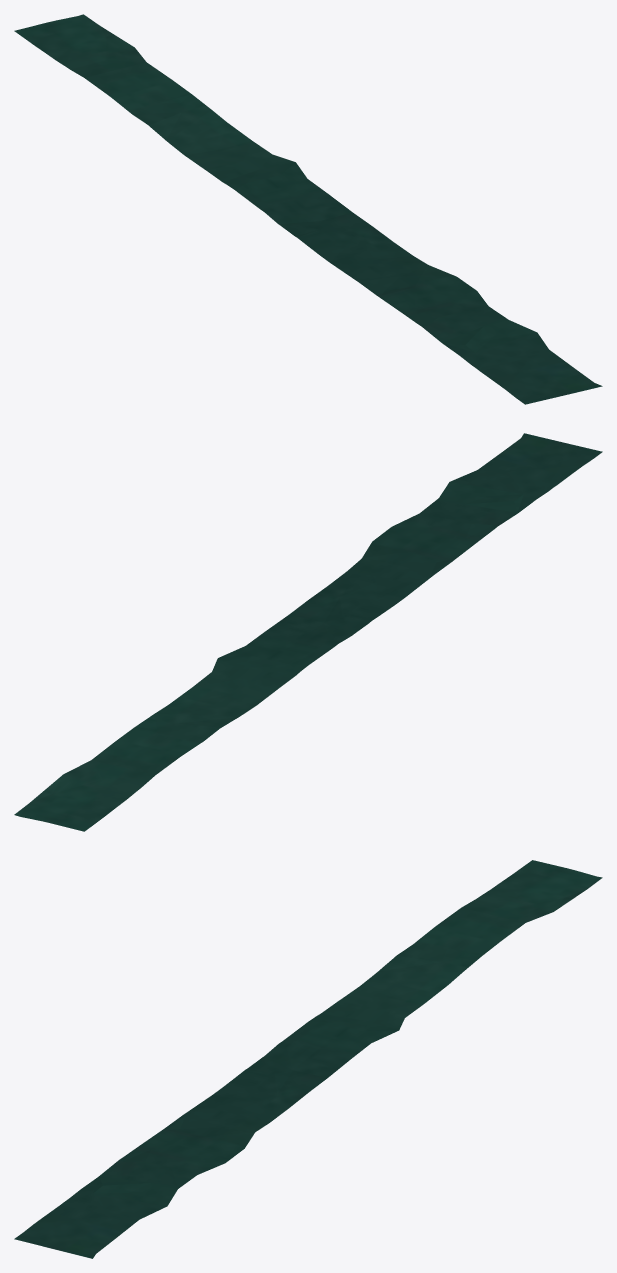
The picture shows the model from 3 angles, top to bottom: view 1: azimuth 30°, elevation 25°; view 2: azimuth 150°, elevation 25°; view 3: azimuth 330°, elevation 25°; orthographic projection.
Bounding box in the file's own units: 9.64 × 0.6677 × 104.
Materials: 1 (1 with a texture image).
